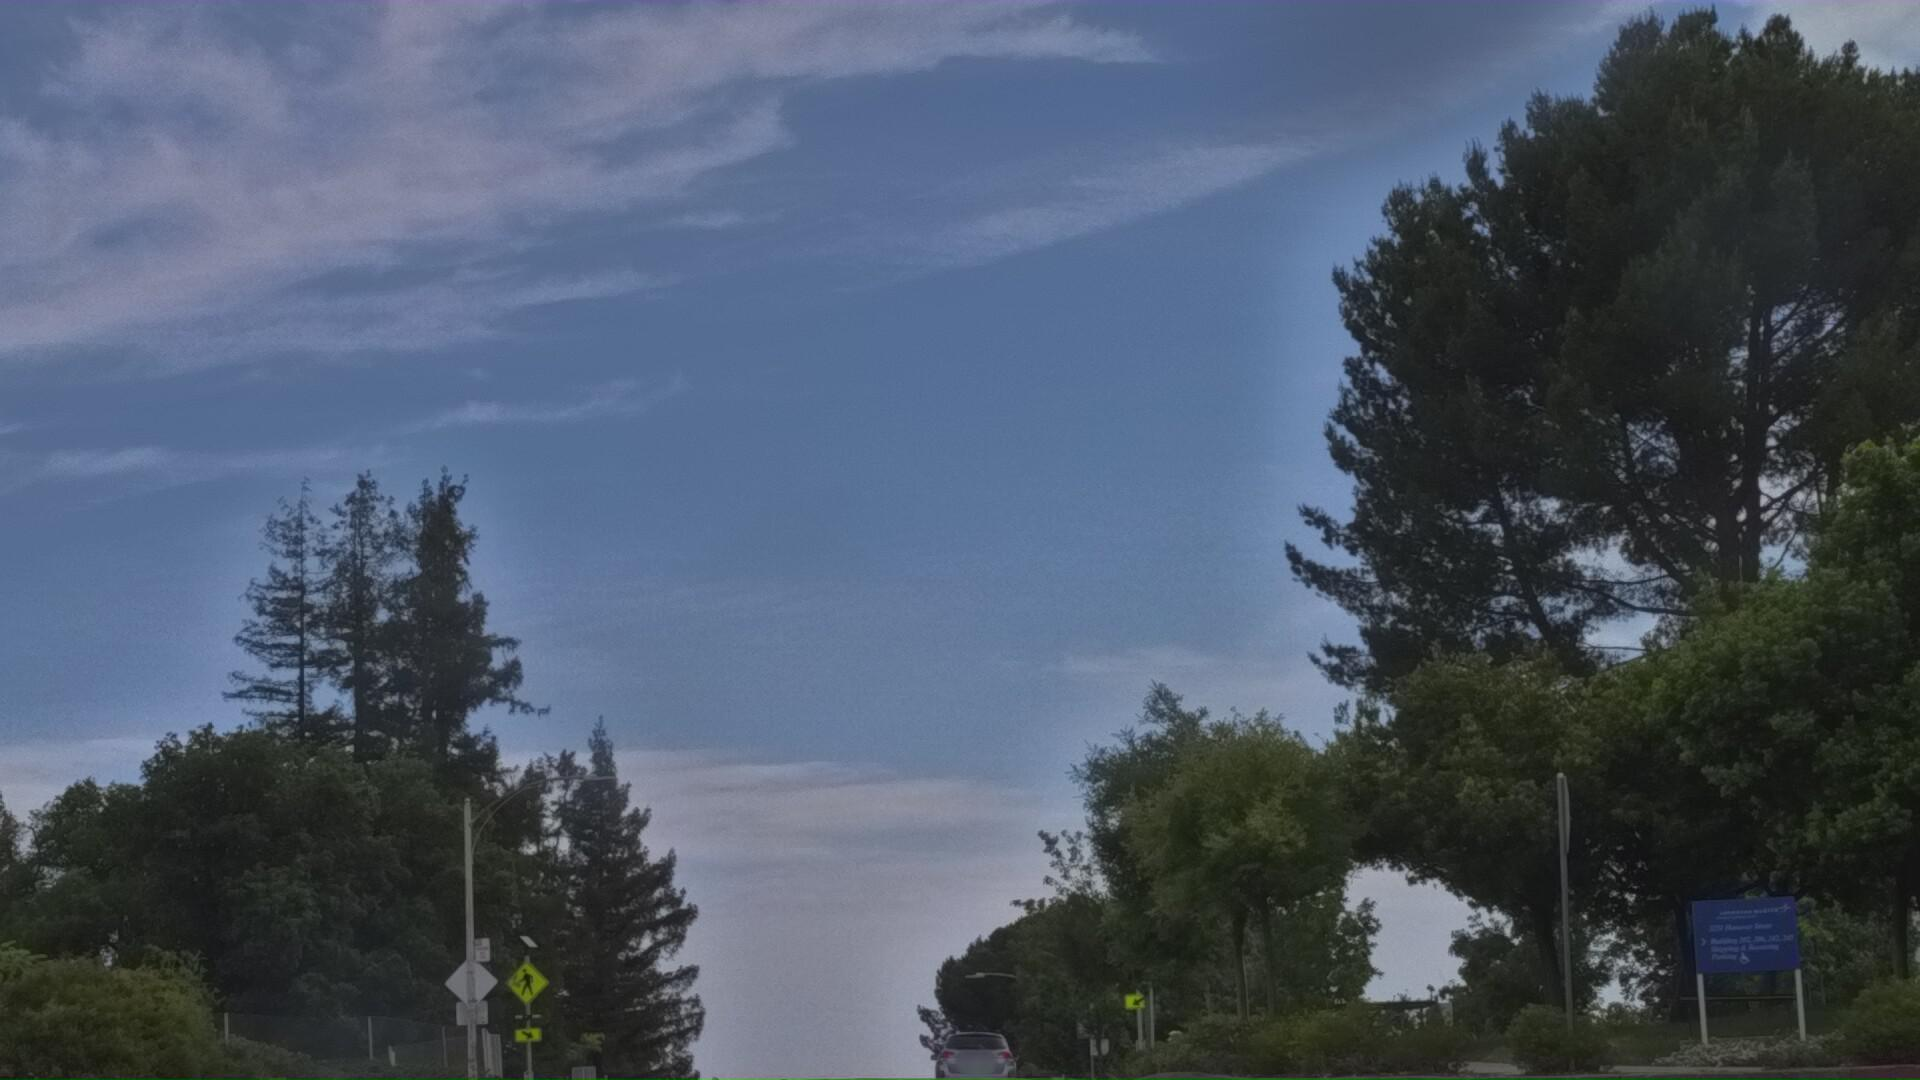car: (923, 1018, 1019, 1080)
